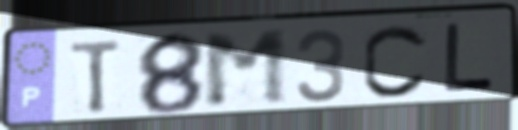3: (293, 26, 347, 104)
8: (134, 29, 209, 117)
C: (359, 22, 430, 101)
L: (441, 21, 498, 96)
M: (199, 27, 292, 112)
T: (67, 37, 125, 117)
